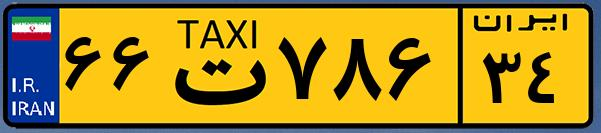3: (475, 38, 525, 113)
4: (525, 38, 570, 115)
6: (385, 28, 445, 110), (57, 26, 110, 100), (110, 28, 158, 98)
7: (270, 28, 330, 110)
8: (330, 28, 385, 110)
ت: (158, 12, 270, 120)
